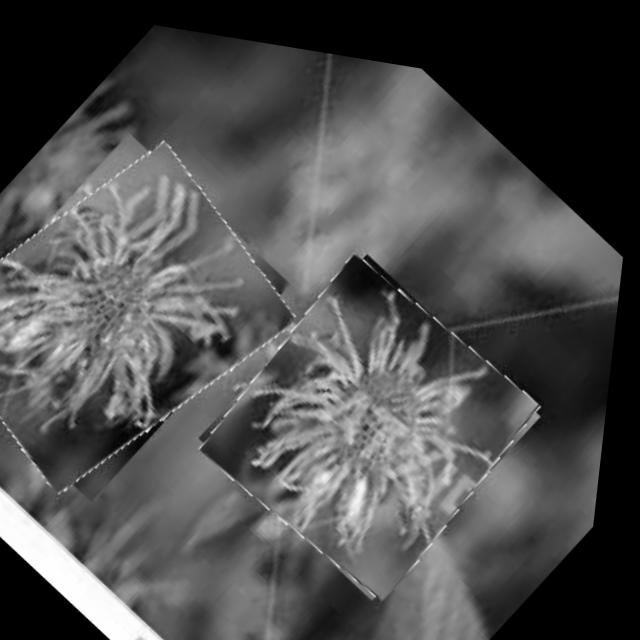Flower: (187, 214, 567, 613), (0, 95, 325, 539)
